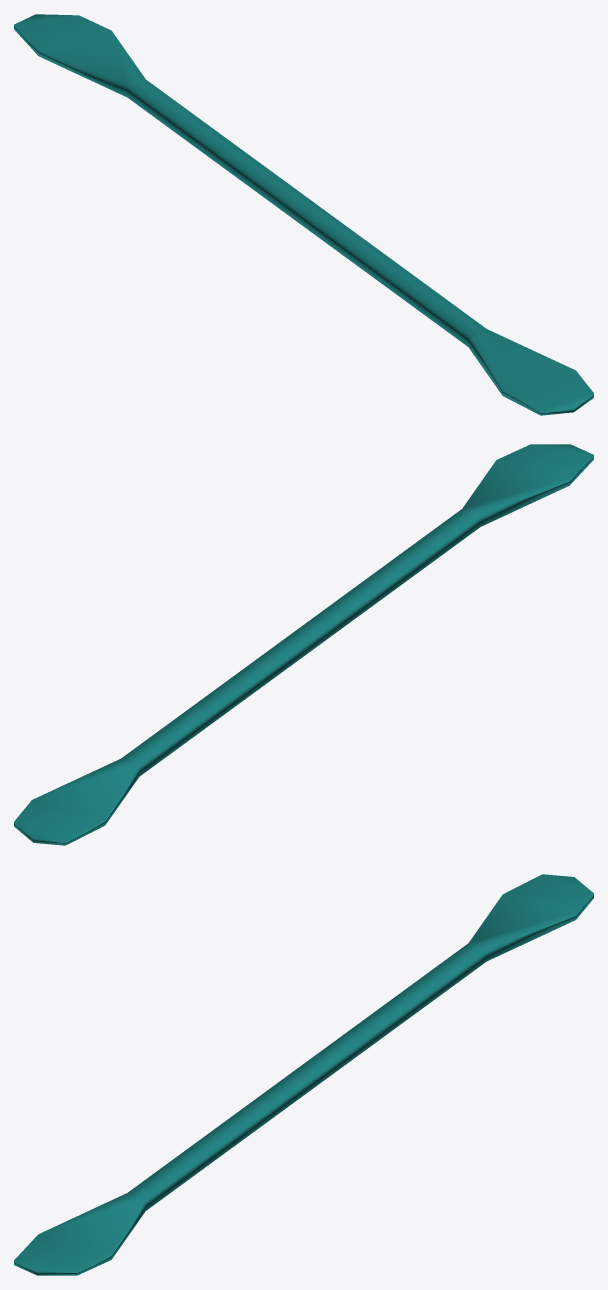
Rendered from kayak_paddle_collider.fbx.
The picture shows the model from 3 angles, top to bottom: view 1: azimuth 30°, elevation 25°; view 2: azimuth 150°, elevation 25°; view 3: azimuth 330°, elevation 25°; orthographic projection.
Visible parts, largest first — view 1: kayak_paddle_collider; view 2: kayak_paddle_collider; view 3: kayak_paddle_collider.
Part boxes in pixels (left/top/right/bottom): kayak_paddle_collider: left=14, top=14, right=593, bottom=415; kayak_paddle_collider: left=14, top=444, right=593, bottom=845; kayak_paddle_collider: left=14, top=874, right=593, bottom=1275.
Size of the model in its own units: 15.74 by 2.81 by 200.
